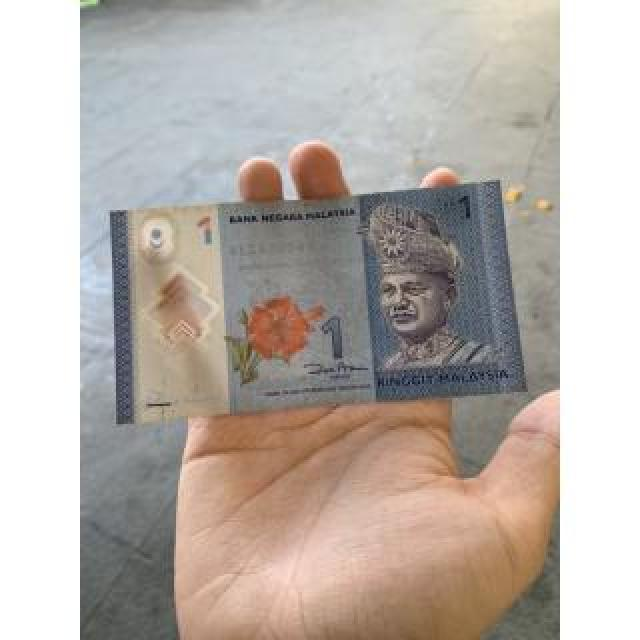1 Ringgit: (100, 164, 534, 431)
